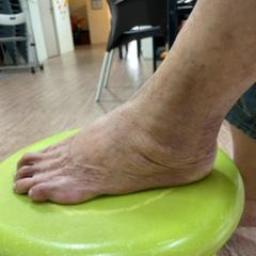Lateral View -Left Foot-: (3, 85, 248, 220)
